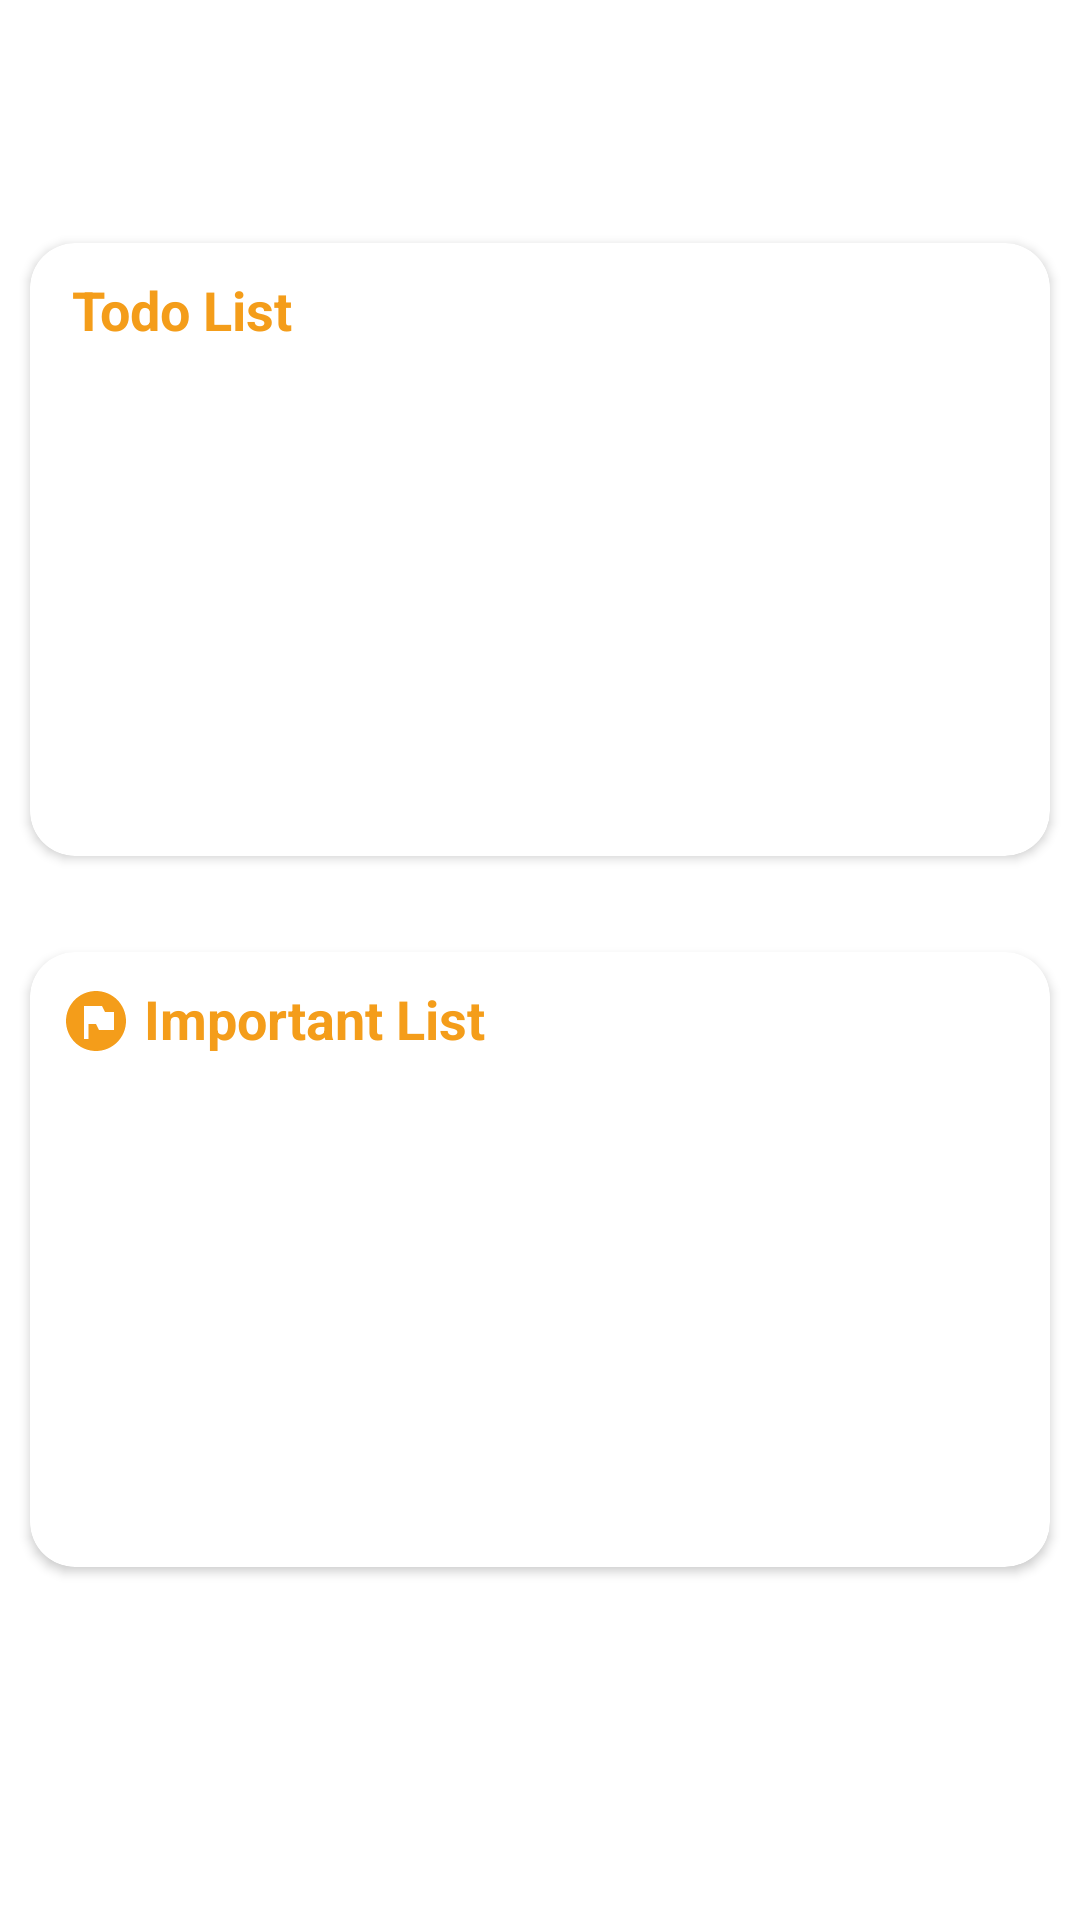

Icon click points for this 1080x1920 phone screenshot, format (x=x, y=y):
flag circle: (x=96, y=1021)
